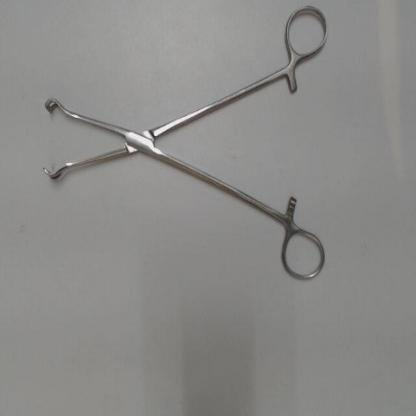8 Babcock Tissue Forceps: (40, 3, 334, 292)
